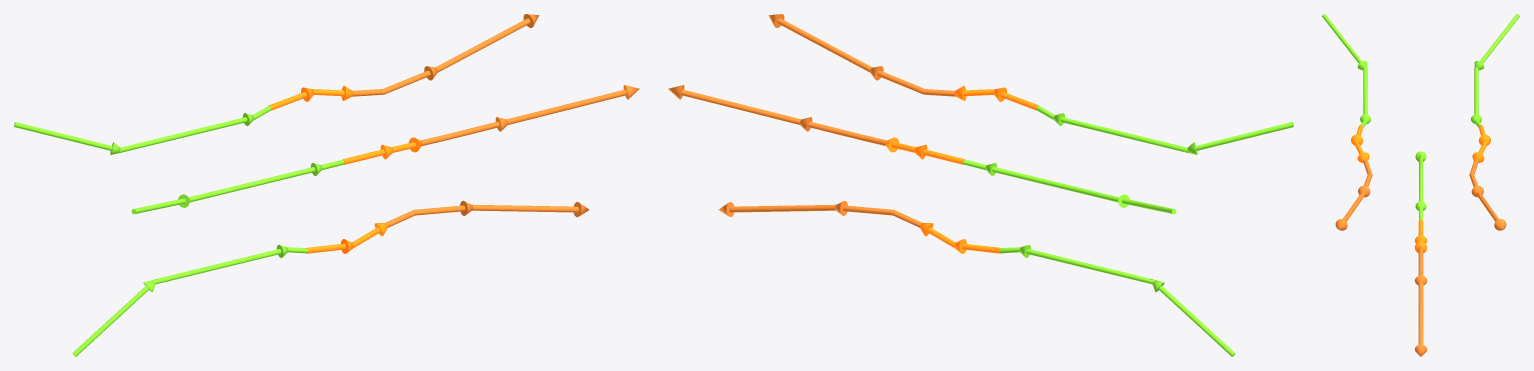
Rendered from gas_turbine_flow.glb.
3 views of the same model, side by side, from view 1: azimuth 30°, elevation 25°; view 2: azimuth 150°, elevation 25°; view 3: azimuth 270°, elevation 25° (orthographic). The views are drawn at different scales.
Parts seen in each view (by area): view 1: air_0, air_2, exhaust_1, exhaust_2, exhaust_0, air_1, combustion_0, combustion_2, combustion_1; view 2: air_1, air_2, exhaust_0, exhaust_2, exhaust_1, air_0, combustion_1, combustion_2, combustion_0; view 3: exhaust_2, air_0, air_1, exhaust_0, exhaust_1, air_2, combustion_0, combustion_1, combustion_2.
Part boxes in pixels (bbox=[...]): air_0: bbox=[14, 105, 271, 154]; air_2: bbox=[72, 245, 307, 356]; exhaust_1: bbox=[421, 85, 639, 145]; exhaust_2: bbox=[385, 200, 589, 227]; exhaust_0: bbox=[353, 14, 539, 96]; air_1: bbox=[131, 159, 344, 214]; combustion_0: bbox=[268, 86, 353, 110]; combustion_2: bbox=[306, 223, 387, 253]; combustion_1: bbox=[343, 137, 422, 164]; air_1: bbox=[1036, 105, 1293, 154]; air_2: bbox=[1000, 245, 1235, 356]; exhaust_0: bbox=[668, 85, 886, 145]; exhaust_2: bbox=[718, 200, 922, 227]; exhaust_1: bbox=[768, 14, 954, 96]; air_0: bbox=[963, 159, 1176, 214]; combustion_1: bbox=[954, 86, 1039, 110]; combustion_2: bbox=[920, 223, 1001, 253]; combustion_0: bbox=[885, 137, 964, 164]; exhaust_2: bbox=[1414, 246, 1427, 356]; air_0: bbox=[1471, 14, 1519, 127]; air_1: bbox=[1322, 14, 1370, 127]; exhaust_0: bbox=[1469, 159, 1506, 230]; exhaust_1: bbox=[1335, 159, 1372, 230]; air_2: bbox=[1415, 151, 1426, 220]; combustion_0: bbox=[1472, 125, 1490, 162]; combustion_1: bbox=[1351, 125, 1369, 162]; combustion_2: bbox=[1414, 219, 1427, 252].
Size of the model in its own units: 1.82 by 0.6444 by 0.7414.
